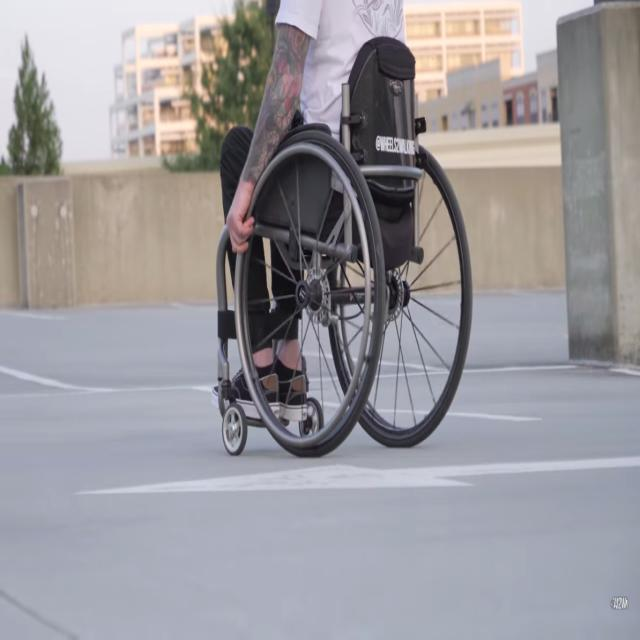wheelchairs: (218, 40, 474, 462)
